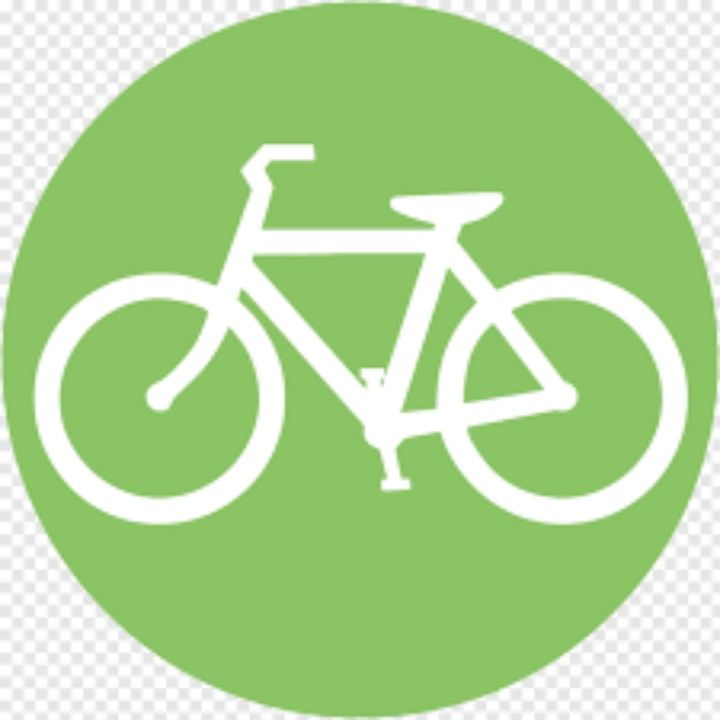bicycle: (33, 27, 696, 690)
